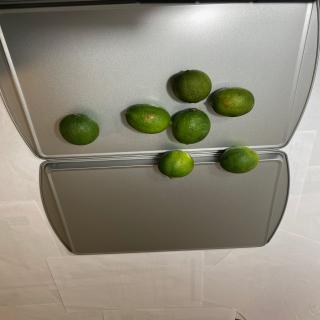Apple: (210, 86, 255, 117)
Lemon: (124, 103, 172, 134), (172, 108, 210, 144), (172, 70, 212, 104), (59, 113, 100, 146), (219, 146, 259, 174), (158, 150, 194, 178)
